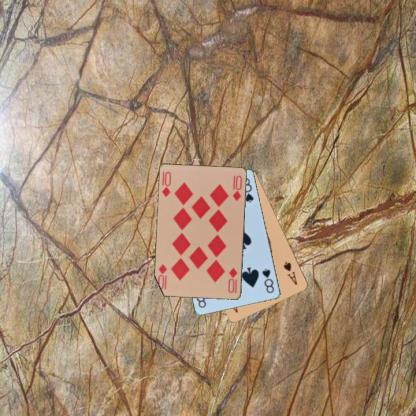10d: (226, 265, 239, 294), (160, 169, 172, 198)
8s: (260, 266, 276, 294)
As: (281, 259, 299, 286)
